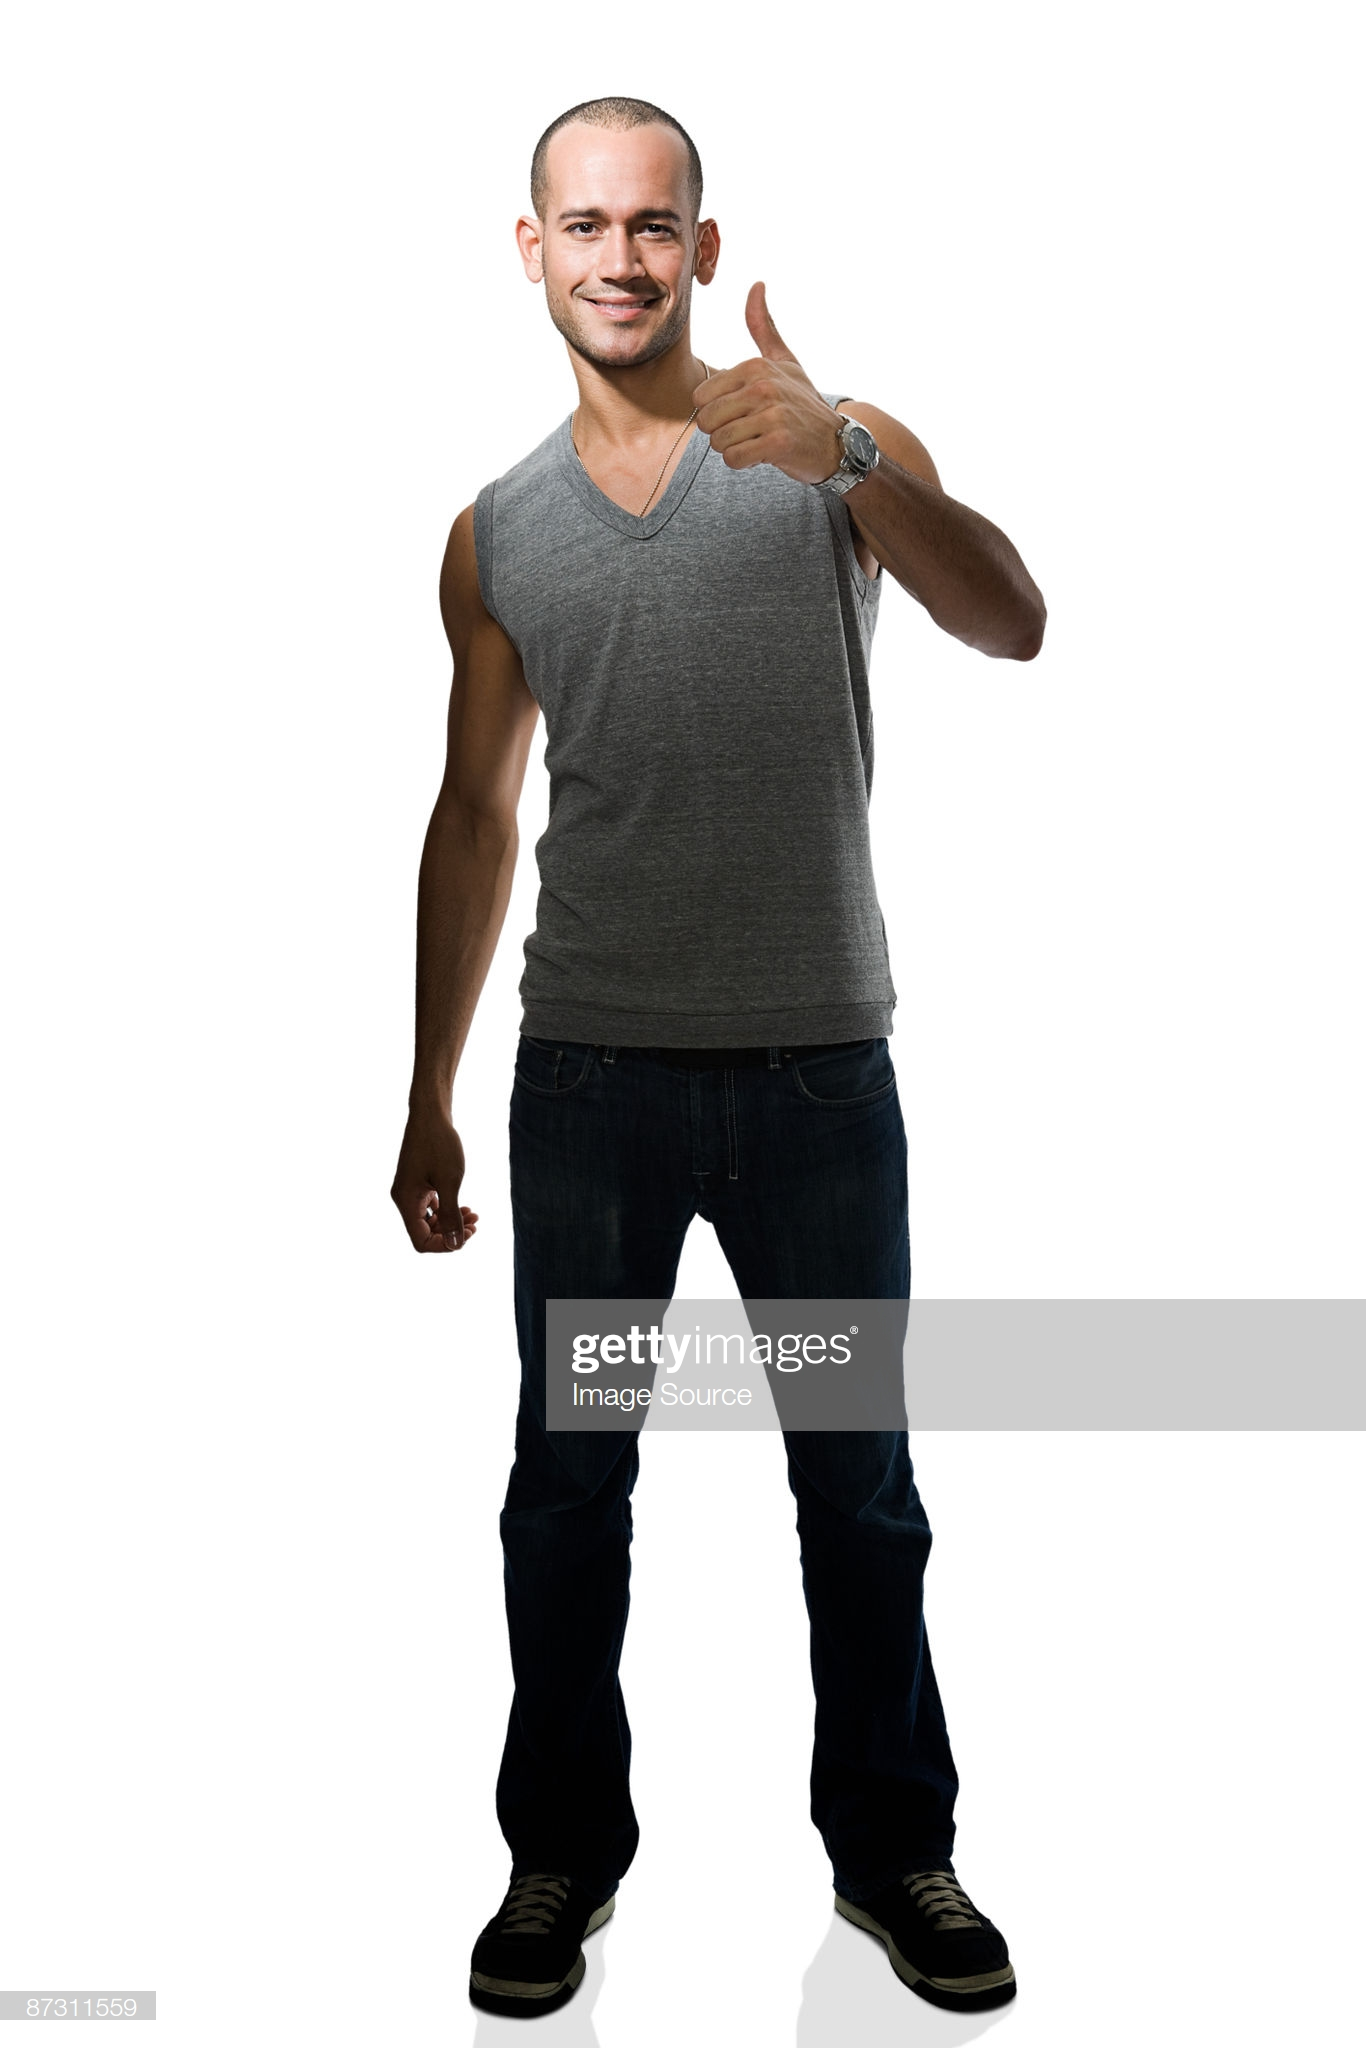thumbsup: (691, 280, 790, 469)
